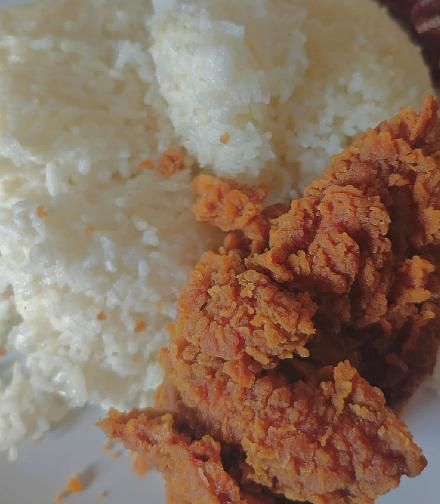daging: (228, 215, 392, 442)
makanan_berpati: (13, 24, 154, 334)
